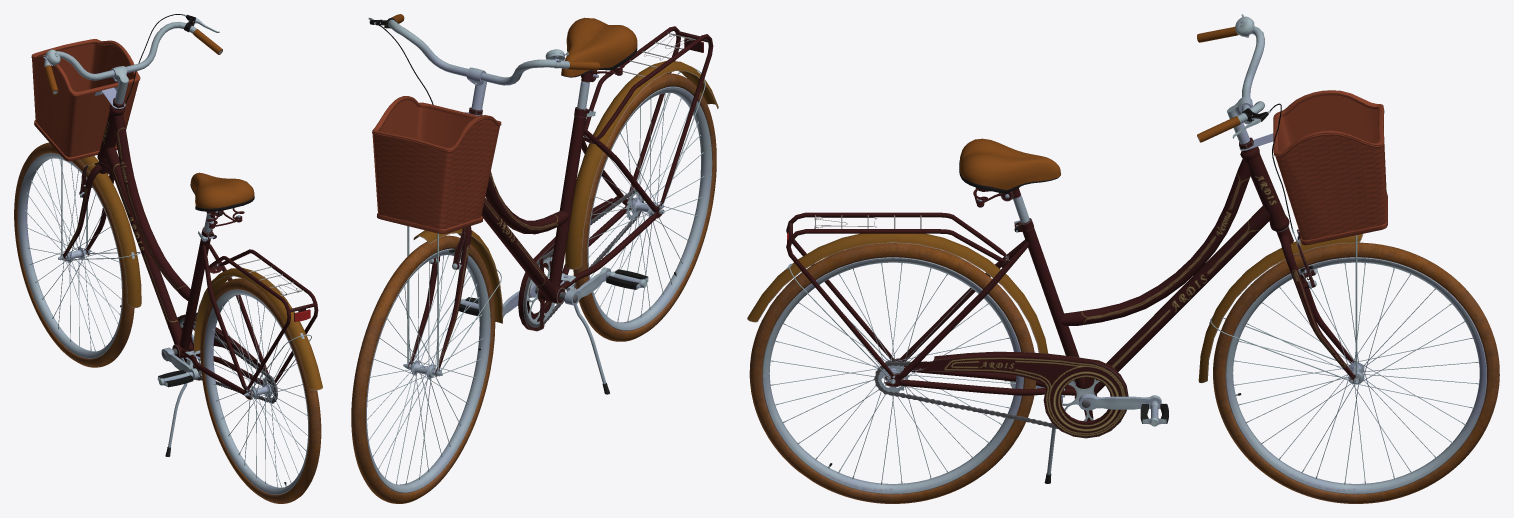
The model's file is bicicleta.glb.
The picture shows the model from 3 angles, left to right: view 1: azimuth 30°, elevation 25°; view 2: azimuth 150°, elevation 25°; view 3: azimuth 270°, elevation 25°; orthographic projection. The views are drawn at different scales.
Parts seen in each view (by area): view 1: Bike_Ardis_Verona_28__01, Bike_Ardis_Verona_28__89; view 2: Bike_Ardis_Verona_28__01, Bike_Ardis_Verona_28__89; view 3: Bike_Ardis_Verona_28__01, Bike_Ardis_Verona_28__89.
Boxes of the visible parts, x1,y1,x2,y2 form: Bike_Ardis_Verona_28__01: (14, 21, 322, 503); Bike_Ardis_Verona_28__89: (24, 14, 311, 487); Bike_Ardis_Verona_28__01: (351, 14, 718, 503); Bike_Ardis_Verona_28__89: (367, 17, 705, 484); Bike_Ardis_Verona_28__01: (747, 26, 1499, 503); Bike_Ardis_Verona_28__89: (770, 14, 1479, 484).
Bounding box in the file's own units: 0.6648 × 1.26 × 1.92.
2 materials, 2 textured.
